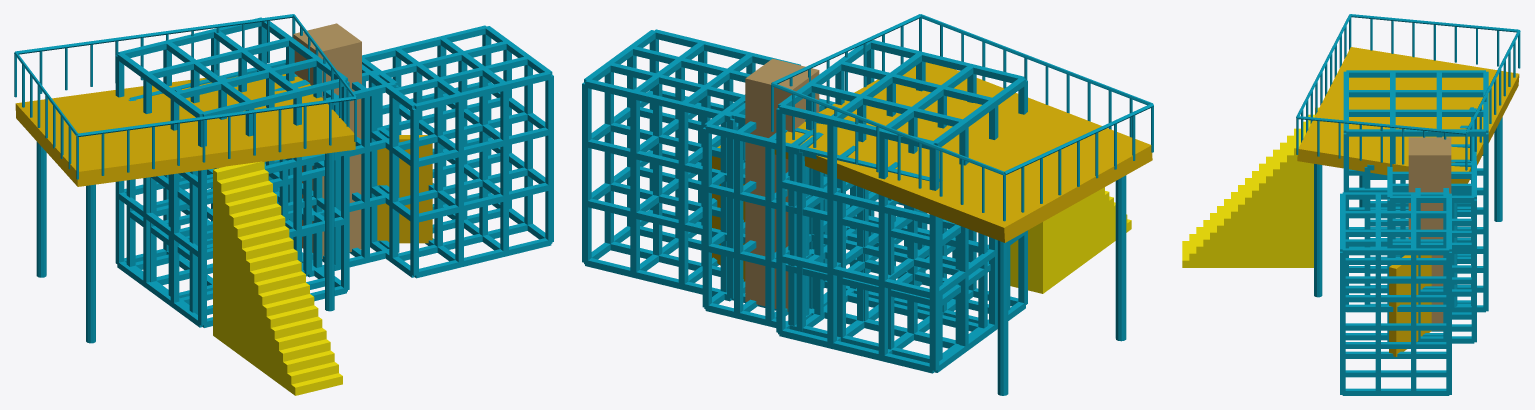
The model's file is folie_tag_120.glb.
3 renders of one model, left to right at view 1: azimuth 30°, elevation 25°; view 2: azimuth 150°, elevation 25°; view 3: azimuth 270°, elevation 25°, orthographic. The views are drawn at different scales.
Visible parts, largest first — view 1: folie_tag_120_03_cage, folie_tag_120_00_cage, folie_tag_120_01_plate, folie_tag_120_stairs, folie_tag_120_line, folie_tag_120_02_cage, folie_tag_120_04_cage, folie_tag_120_core, folie_tag_120_05_panel; view 2: folie_tag_120_00_cage, folie_tag_120_03_cage, folie_tag_120_01_plate, folie_tag_120_04_cage, folie_tag_120_02_cage, folie_tag_120_line, folie_tag_120_core, folie_tag_120_stairs, folie_tag_120_05_panel; view 3: folie_tag_120_03_cage, folie_tag_120_01_plate, folie_tag_120_stairs, folie_tag_120_00_cage, folie_tag_120_line, folie_tag_120_04_cage, folie_tag_120_core, folie_tag_120_02_cage, folie_tag_120_05_panel.
Boxes of the visible parts, box(x1,y1,x2,y2) form: folie_tag_120_03_cage: box(362, 25, 553, 278); folie_tag_120_00_cage: box(115, 17, 349, 327); folie_tag_120_01_plate: box(15, 74, 355, 186); folie_tag_120_stairs: box(213, 161, 342, 395); folie_tag_120_line: box(14, 14, 357, 343); folie_tag_120_02_cage: box(126, 66, 324, 315); folie_tag_120_04_cage: box(257, 56, 399, 277); folie_tag_120_core: box(293, 23, 361, 258); folie_tag_120_05_panel: box(377, 135, 432, 243); folie_tag_120_00_cage: box(776, 40, 1027, 373); folie_tag_120_03_cage: box(582, 29, 800, 301); folie_tag_120_01_plate: box(774, 62, 1152, 242); folie_tag_120_04_cage: box(702, 94, 856, 331); folie_tag_120_02_cage: box(788, 130, 1010, 362); folie_tag_120_line: box(771, 14, 1153, 395); folie_tag_120_core: box(745, 58, 819, 311); folie_tag_120_stairs: box(1010, 187, 1131, 293); folie_tag_120_05_panel: box(712, 145, 745, 281); folie_tag_120_03_cage: box(1340, 192, 1451, 395); folie_tag_120_01_plate: box(1297, 47, 1519, 183); folie_tag_120_stairs: box(1182, 107, 1318, 267); folie_tag_120_00_cage: box(1343, 70, 1488, 312); folie_tag_120_line: box(1296, 14, 1520, 307); folie_tag_120_04_cage: box(1387, 159, 1476, 343); folie_tag_120_core: box(1408, 137, 1451, 330); folie_tag_120_02_cage: box(1364, 107, 1476, 305); folie_tag_120_05_panel: box(1389, 255, 1431, 356).
Size of the model in its own units: 11.9 by 5.33 by 8.73.
